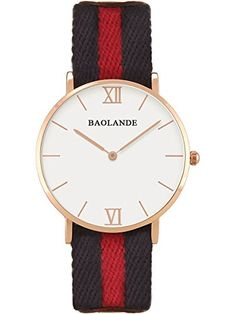clock: (34, 79, 193, 234)
